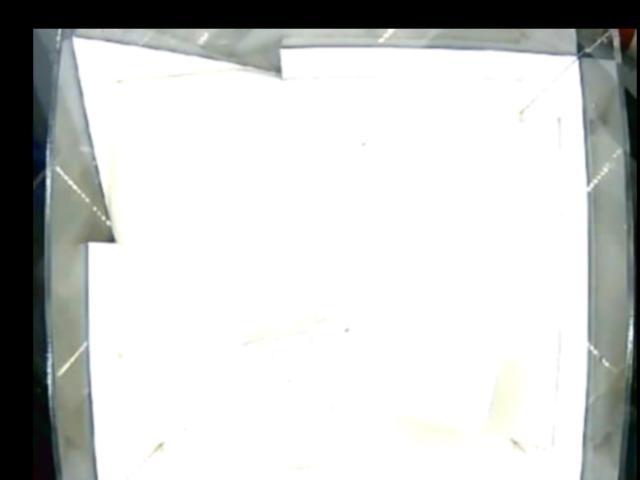Bottle: (235, 273, 373, 470), (317, 165, 451, 269)
Cup: (388, 339, 501, 438)
